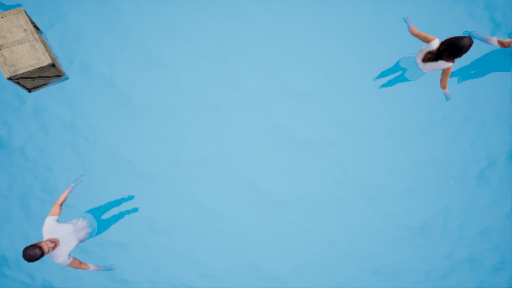person: (24, 176, 140, 273), (368, 14, 470, 112)
